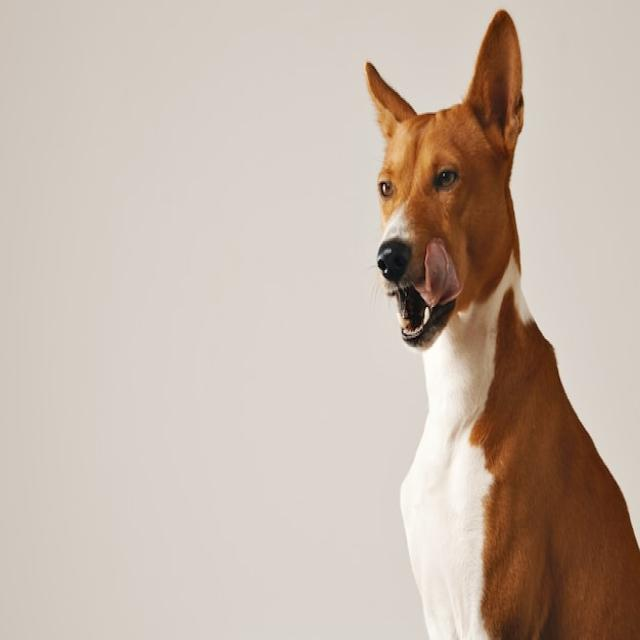Dog: (364, 9, 640, 640)
